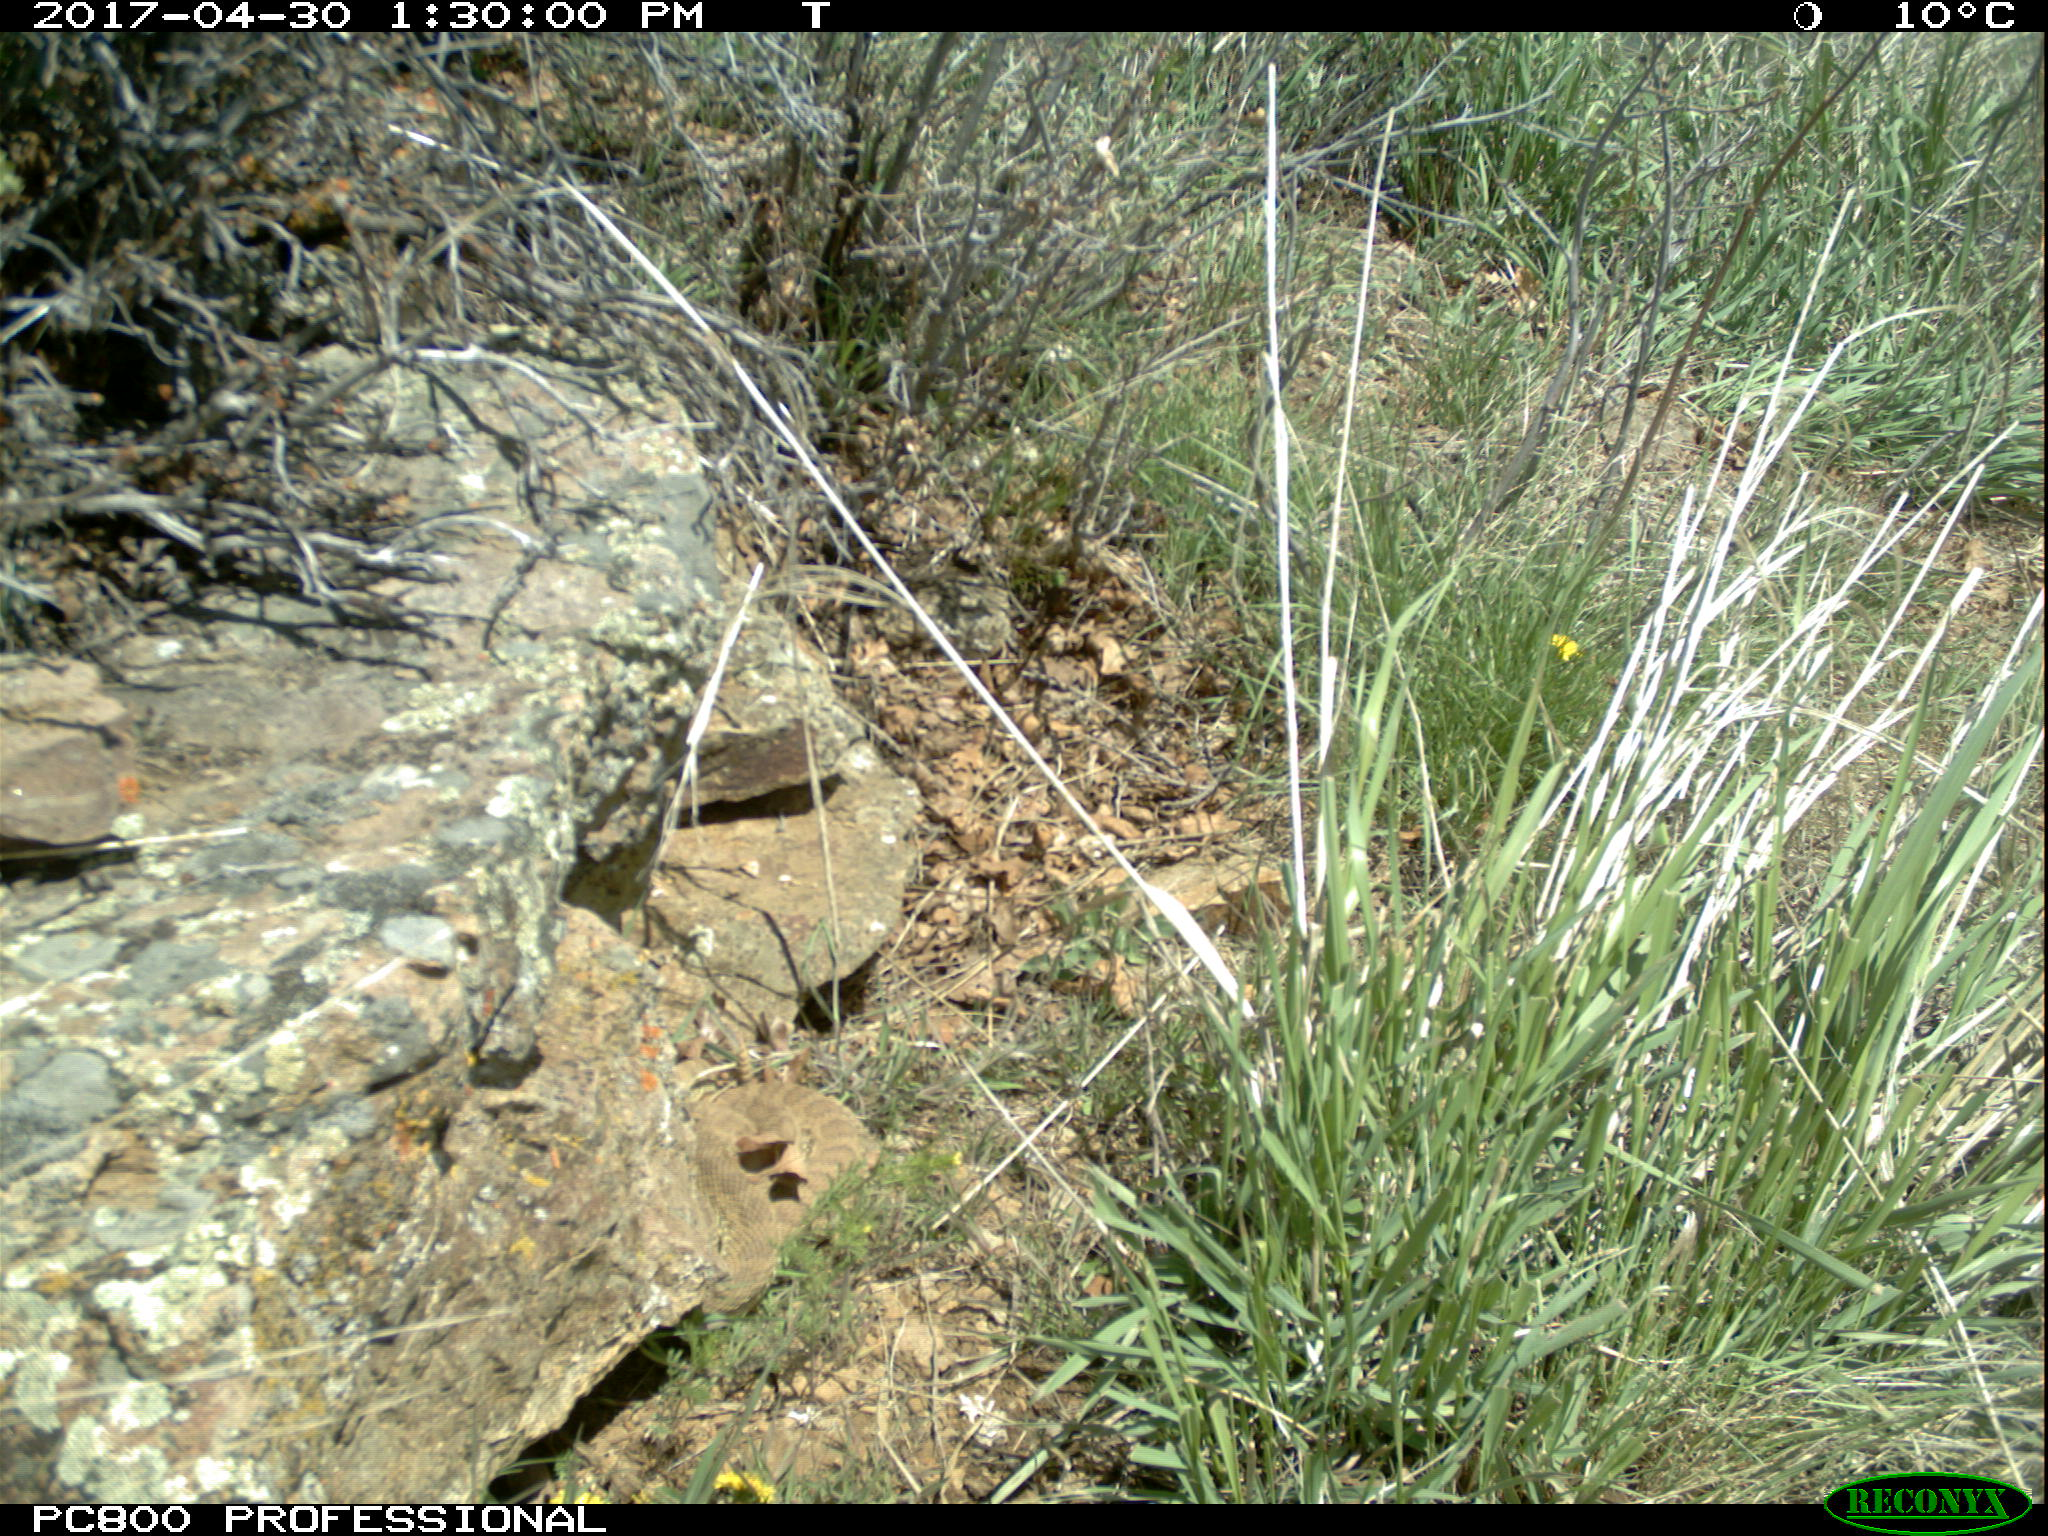snake: (676, 1078, 897, 1326)
